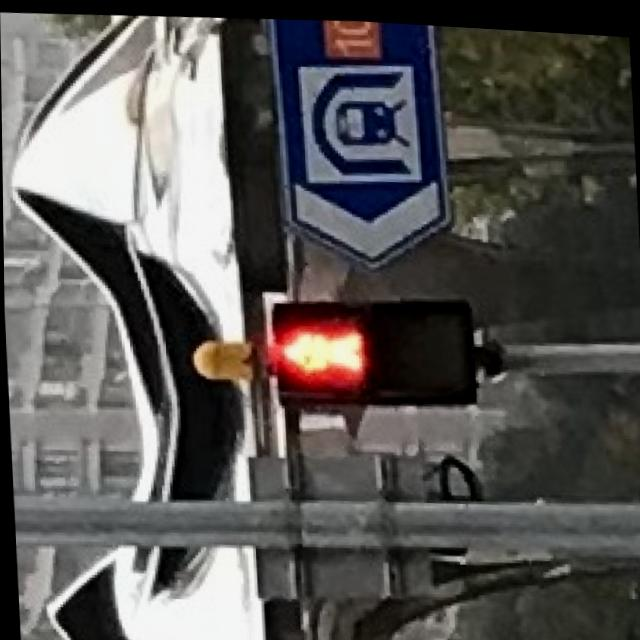red_light: (270, 296, 362, 399)
